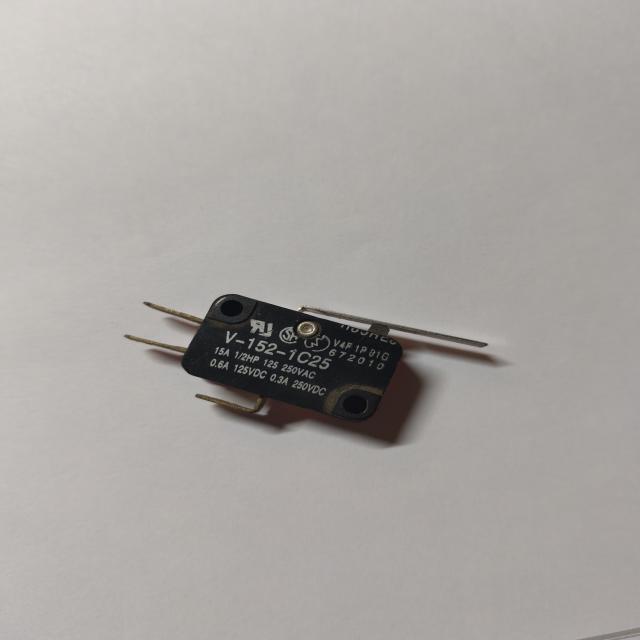switch: (121, 280, 497, 442)
